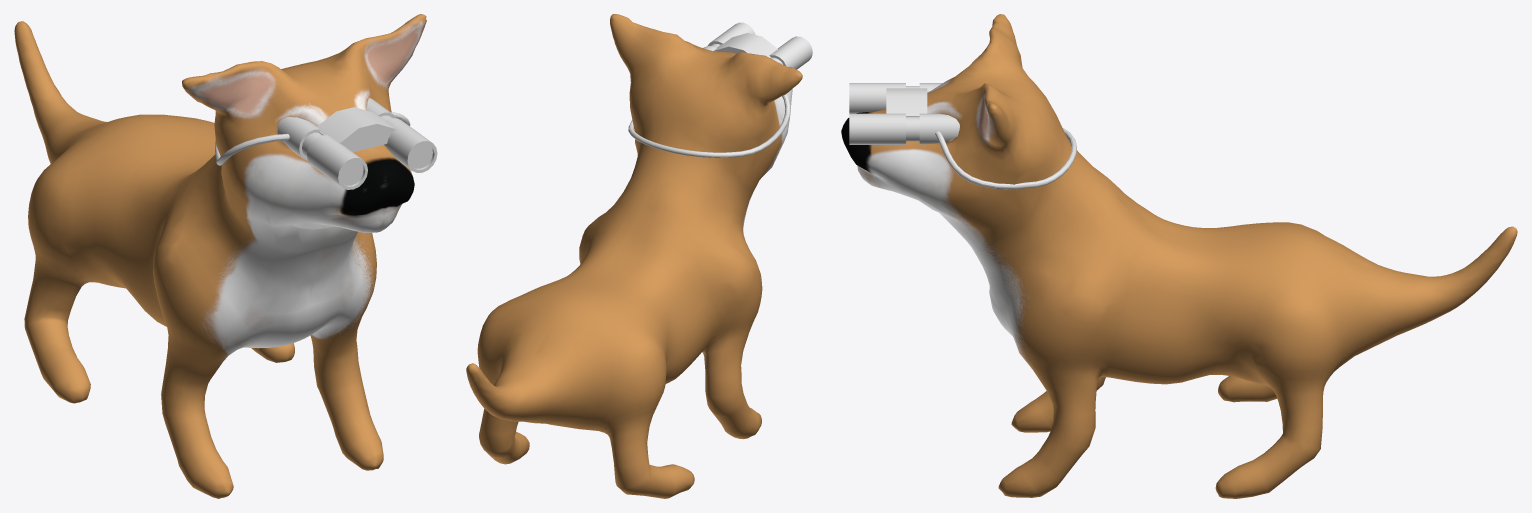
File: Binoculars.fbx
The picture shows the model from 3 angles, left to right: view 1: azimuth 30°, elevation 25°; view 2: azimuth 150°, elevation 25°; view 3: azimuth 270°, elevation 25°; orthographic projection. The views are drawn at different scales.
Parts seen in each view (by area): view 1: Dog_low, Binoculars; view 2: Dog_low, Binoculars; view 3: Dog_low, Binoculars.
Boxes of the visible parts, <box> form: Dog_low: <box>14,14,426,498</box>; Binoculars: <box>215,98,437,189</box>; Dog_low: <box>466,14,802,498</box>; Binoculars: <box>628,22,812,157</box>; Dog_low: <box>841,14,1517,498</box>; Binoculars: <box>849,83,1076,189</box>.
Size of the model in its own units: 248 by 447 by 670.
